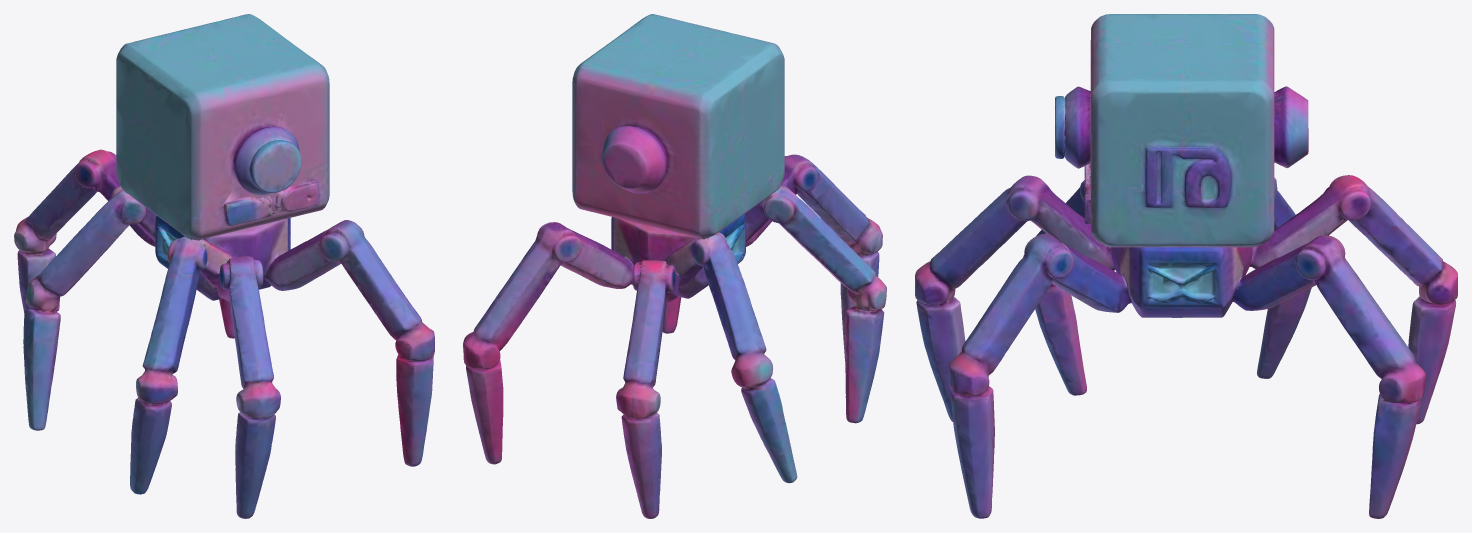
Rendered from blue_recruiter.glb.
3 renders of one model, left to right at view 1: azimuth 30°, elevation 25°; view 2: azimuth 150°, elevation 25°; view 3: azimuth 270°, elevation 25°, orthographic. The views are drawn at different scales.
Visible parts, largest first — view 1: tripo_node_e97c111b-bf0e-40bf-8269-44a950bb1dd9; view 2: tripo_node_e97c111b-bf0e-40bf-8269-44a950bb1dd9; view 3: tripo_node_e97c111b-bf0e-40bf-8269-44a950bb1dd9.
Boxes of the visible parts, bbox=[...] form: tripo_node_e97c111b-bf0e-40bf-8269-44a950bb1dd9: bbox=[14, 14, 434, 518]; tripo_node_e97c111b-bf0e-40bf-8269-44a950bb1dd9: bbox=[463, 14, 886, 518]; tripo_node_e97c111b-bf0e-40bf-8269-44a950bb1dd9: bbox=[915, 14, 1457, 518].
Size of the model in its own units: 0.6518 by 0.8485 by 0.9997.
Materials: 1 (1 with a texture image).
